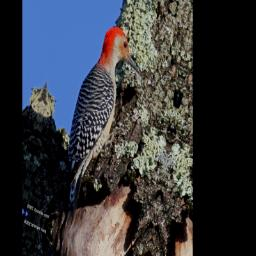Woodpecker: (54, 11, 146, 243)
